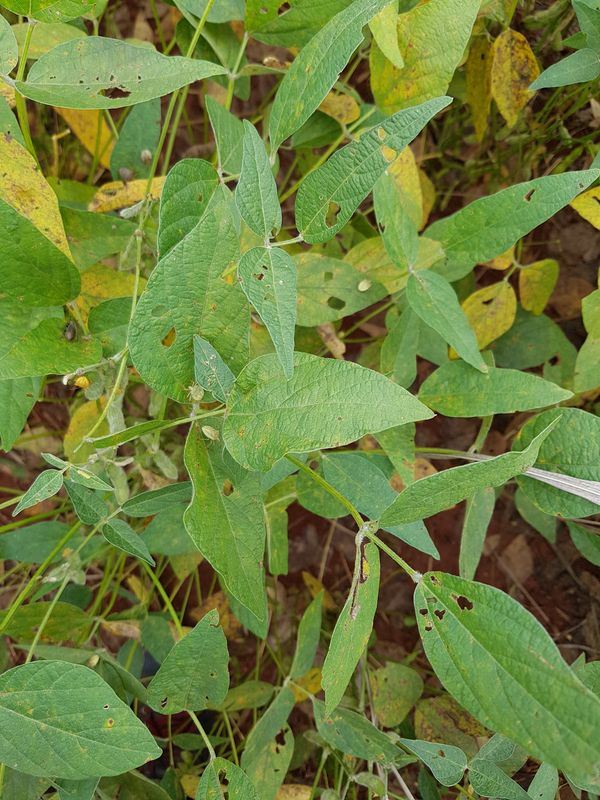Euschistus_heros_ninfa: (197, 423, 224, 449), (181, 378, 207, 404), (71, 372, 92, 393), (354, 277, 373, 296)
Lagria_villosa: (58, 316, 81, 346)
